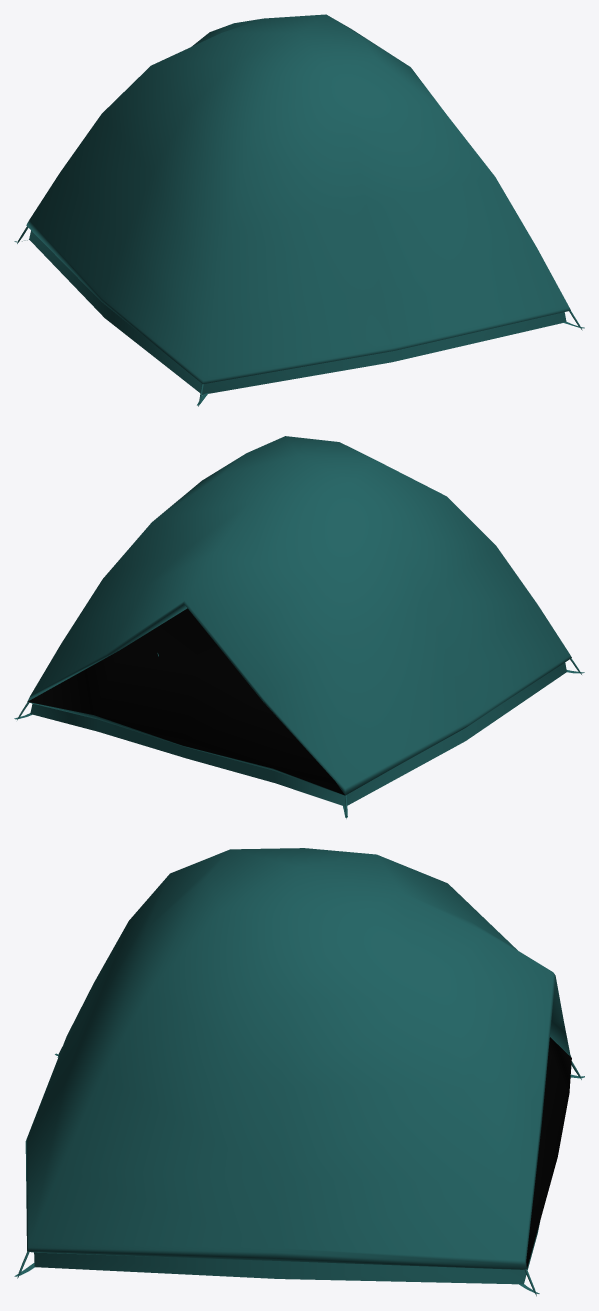
The model's file is tienda_1.fbx.
The picture shows the model from 3 angles, top to bottom: view 1: azimuth 30°, elevation 25°; view 2: azimuth 150°, elevation 25°; view 3: azimuth 270°, elevation 25°; orthographic projection. The views are drawn at different scales.
Visible parts, largest first — view 1: tent_decathlon; view 2: tent_decathlon; view 3: tent_decathlon.
Part boxes in pixels (x1=…): tent_decathlon: x1=14, y1=14, x2=584, y2=406; tent_decathlon: x1=14, y1=436, x2=584, y2=818; tent_decathlon: x1=14, y1=848, x2=584, y2=1296.
Bounding box in the file's own units: 350 × 214 × 354.
